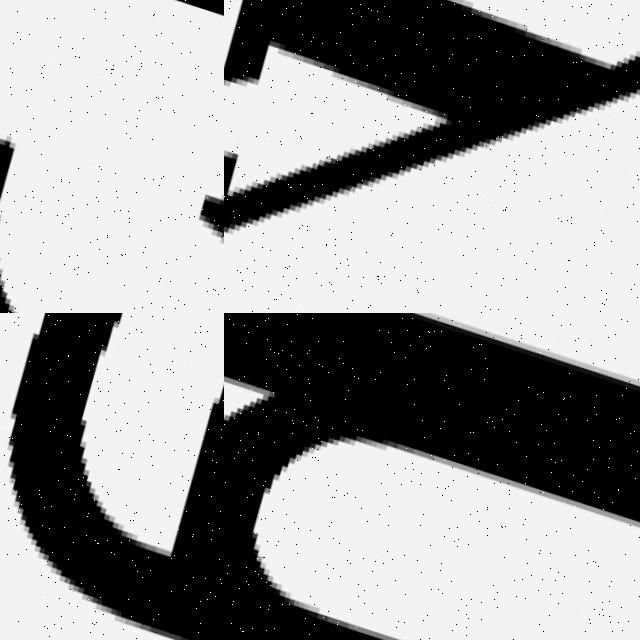5: (0, 43, 224, 313)
A: (0, 313, 224, 640)
N: (224, 313, 640, 640)
Y: (224, 0, 640, 313)
